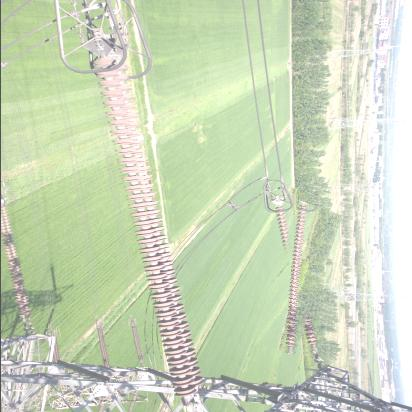insulator: (91, 50, 207, 407), (263, 203, 332, 355)
